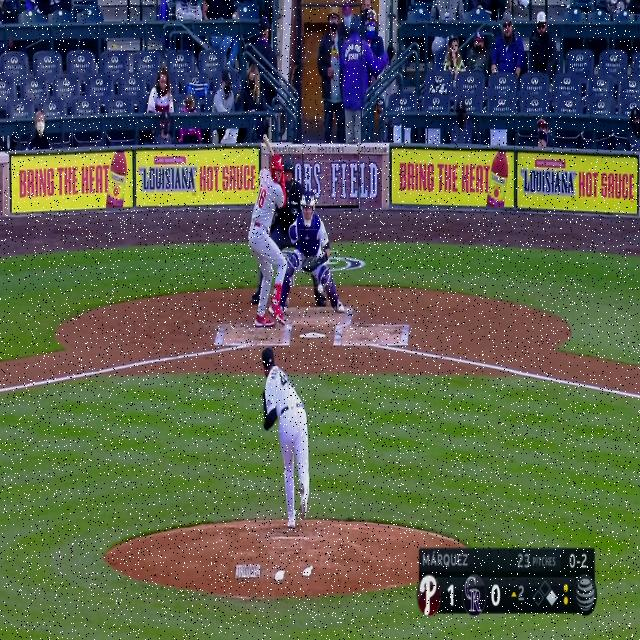baseball: (317, 282, 324, 295)
